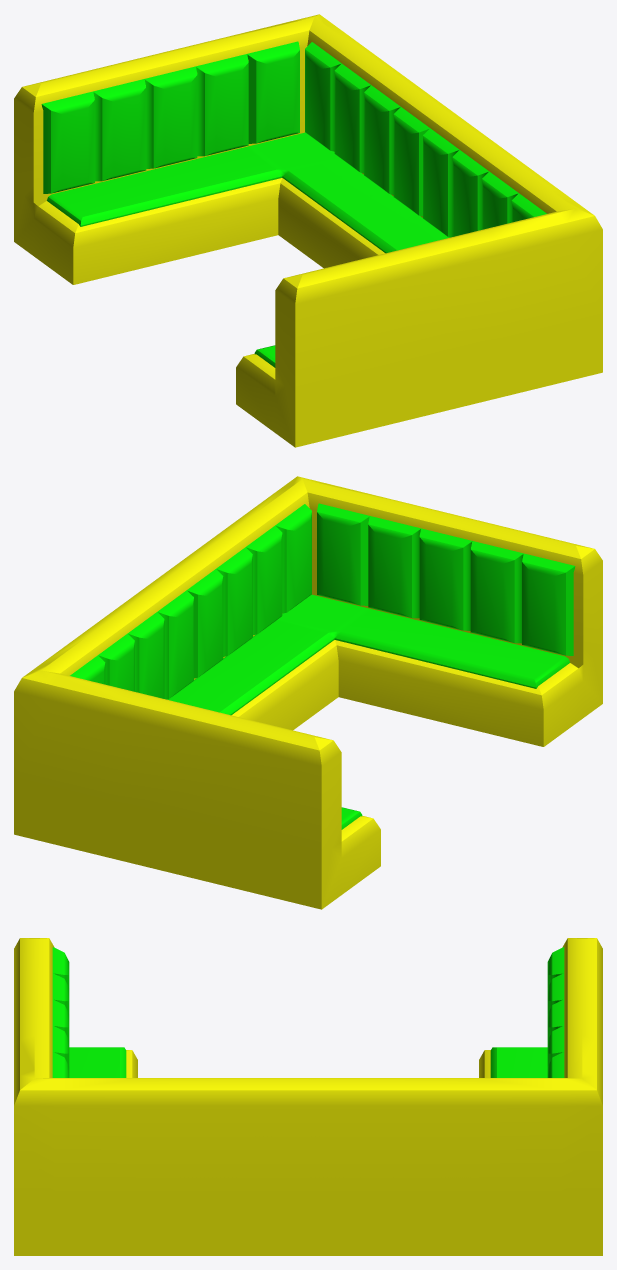
Rendered from CChair.fbx.
3 views of the same model, one above another, from view 1: azimuth 30°, elevation 25°; view 2: azimuth 150°, elevation 25°; view 3: azimuth 270°, elevation 25° (orthographic). The views are drawn at different scales.
Visible parts, largest first — view 1: pCube15; view 2: pCube15; view 3: pCube15.
Part boxes in pixels (x1=…): pCube15: x1=14, y1=14, x2=602, y2=447; pCube15: x1=14, y1=476, x2=602, y2=909; pCube15: x1=14, y1=938, x2=602, y2=1255.
Bounding box in the file's own units: 3 × 1.5 × 4.75.
